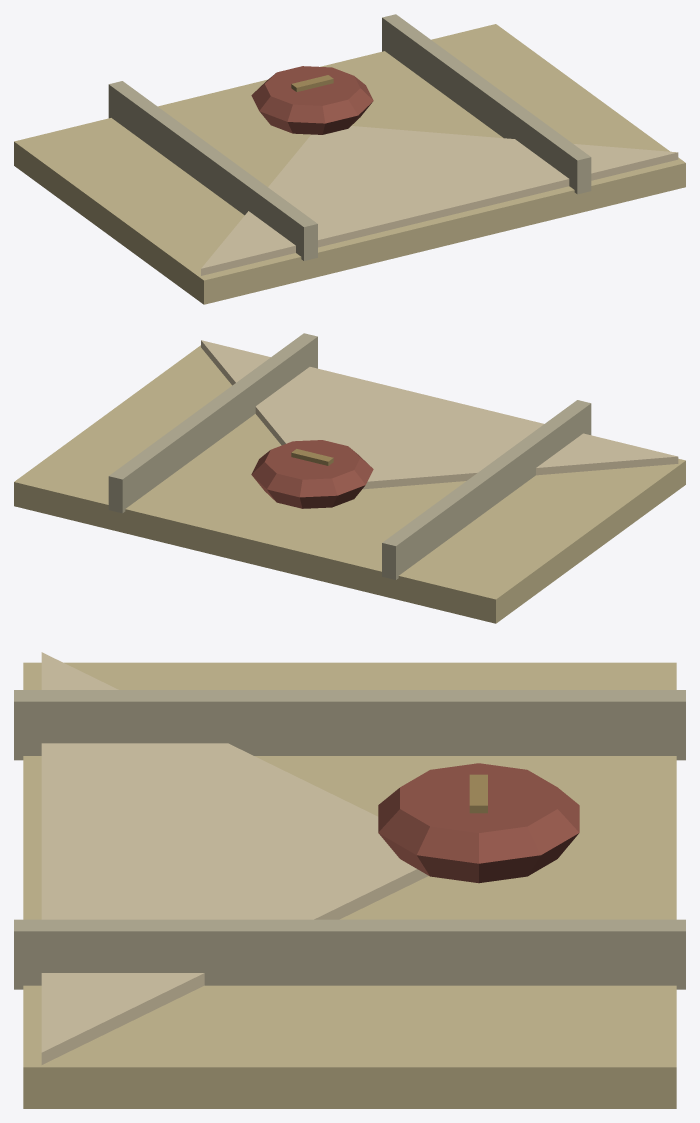
File: SWP_WaxSealedLetter.fbx
The picture shows the model from 3 angles, top to bottom: view 1: azimuth 30°, elevation 25°; view 2: azimuth 150°, elevation 25°; view 3: azimuth 270°, elevation 25°; orthographic projection. The views are drawn at different scales.
Visible parts, largest first — view 1: SWP_WaxSealedLetter; view 2: SWP_WaxSealedLetter; view 3: SWP_WaxSealedLetter.
Part boxes in pixels (x1=…): SWP_WaxSealedLetter: x1=14, y1=14, x2=685, y2=304; SWP_WaxSealedLetter: x1=14, y1=333, x2=685, y2=623; SWP_WaxSealedLetter: x1=14, y1=652, x2=685, y2=1108.
Size of the model in its own units: 0.208 by 0.0279 by 0.146.
